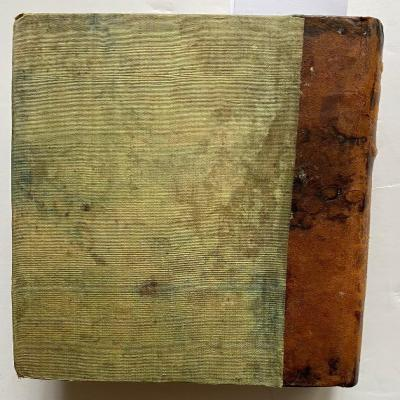rare_books: (11, 13, 384, 391)
